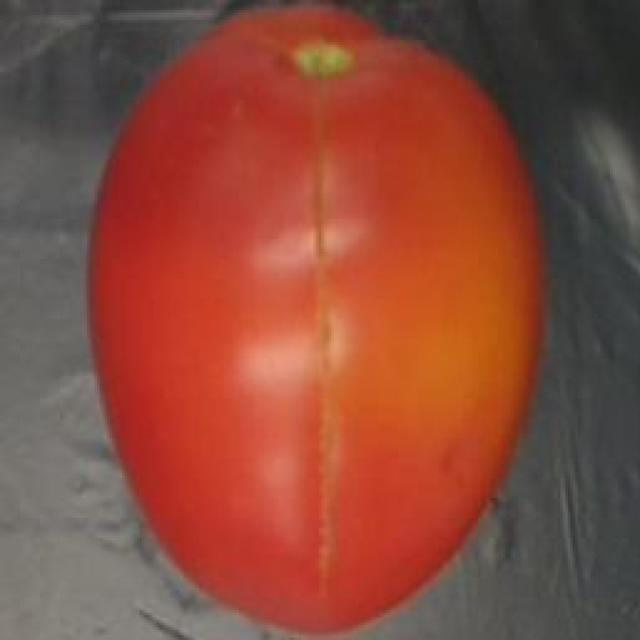ripe tomato: (70, 0, 548, 640)
